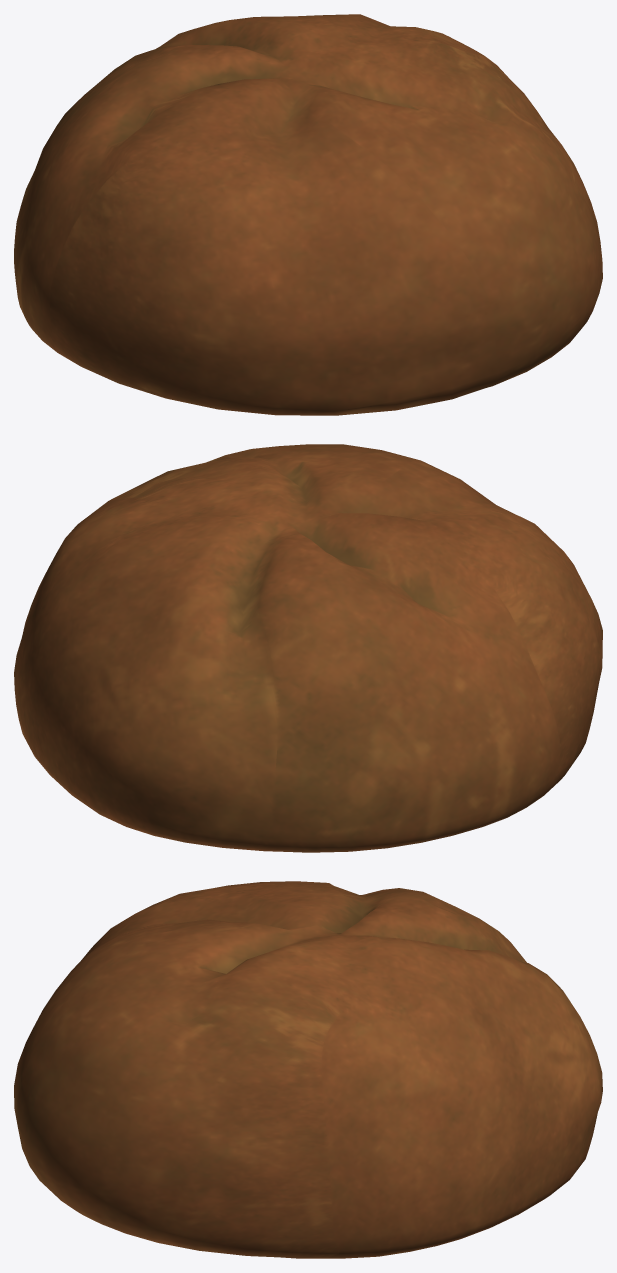
Rendered from SM_RoundBread.fbx.
The picture shows the model from 3 angles, top to bottom: view 1: azimuth 30°, elevation 25°; view 2: azimuth 150°, elevation 25°; view 3: azimuth 270°, elevation 25°; orthographic projection. The views are drawn at different scales.
Parts seen in each view (by area): view 1: SM_RoundBread_LOD0; view 2: SM_RoundBread_LOD0; view 3: SM_RoundBread_LOD0.
Part boxes in pixels (box(x1,y1,x2,y2)): SM_RoundBread_LOD0: box(14, 14, 602, 415); SM_RoundBread_LOD0: box(14, 444, 602, 852); SM_RoundBread_LOD0: box(14, 881, 602, 1258).
Size of the model in its own units: 50.71 by 53.49 by 24.25.
1 material, 1 textured.
